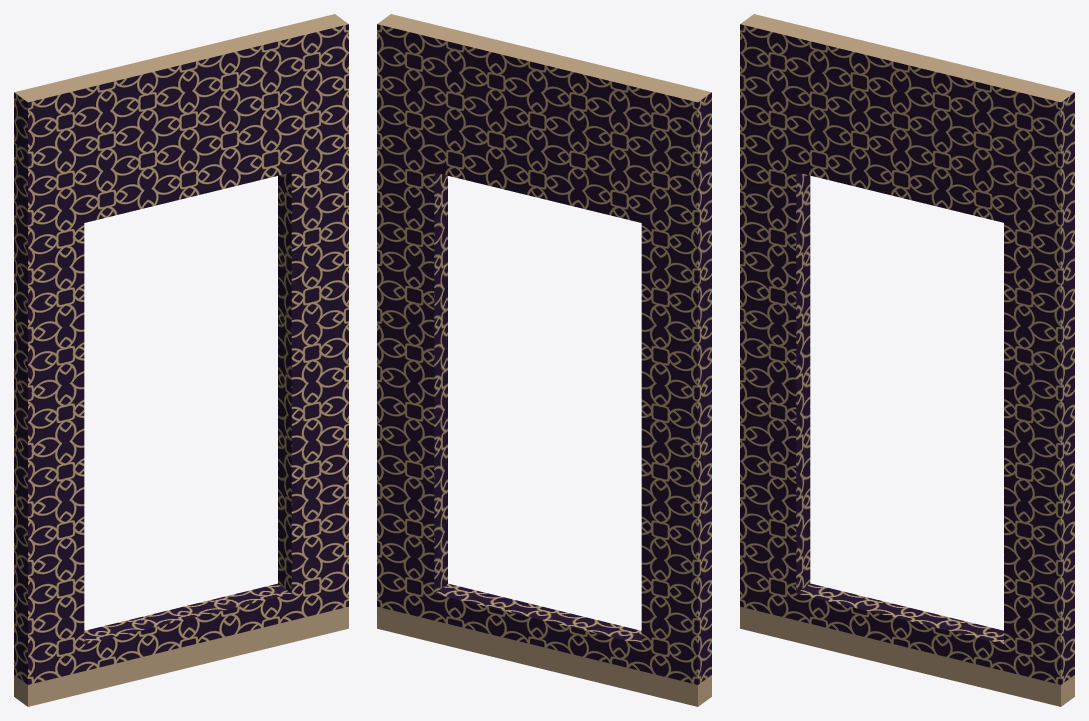
File: ARC0210041.fbx
3 renders of one model, left to right at view 1: azimuth 30°, elevation 25°; view 2: azimuth 150°, elevation 25°; view 3: azimuth 330°, elevation 25°, orthographic.
Parts seen in each view (by area): view 1: smARC0210041; view 2: smARC0210041; view 3: smARC0210041.
Boxes of the visible parts, left/top/right/bottom form: smARC0210041: left=14, top=14, right=348, bottom=706; smARC0210041: left=377, top=14, right=711, bottom=706; smARC0210041: left=740, top=14, right=1074, bottom=706.
Bounding box in the file's own units: 182 × 328 × 13.67.
1 material, 1 textured.
